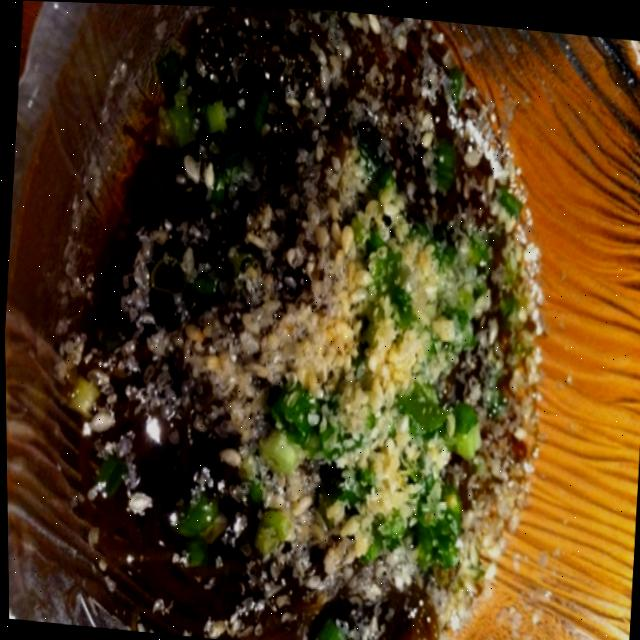蔬菜料理: (12, 5, 601, 640)
